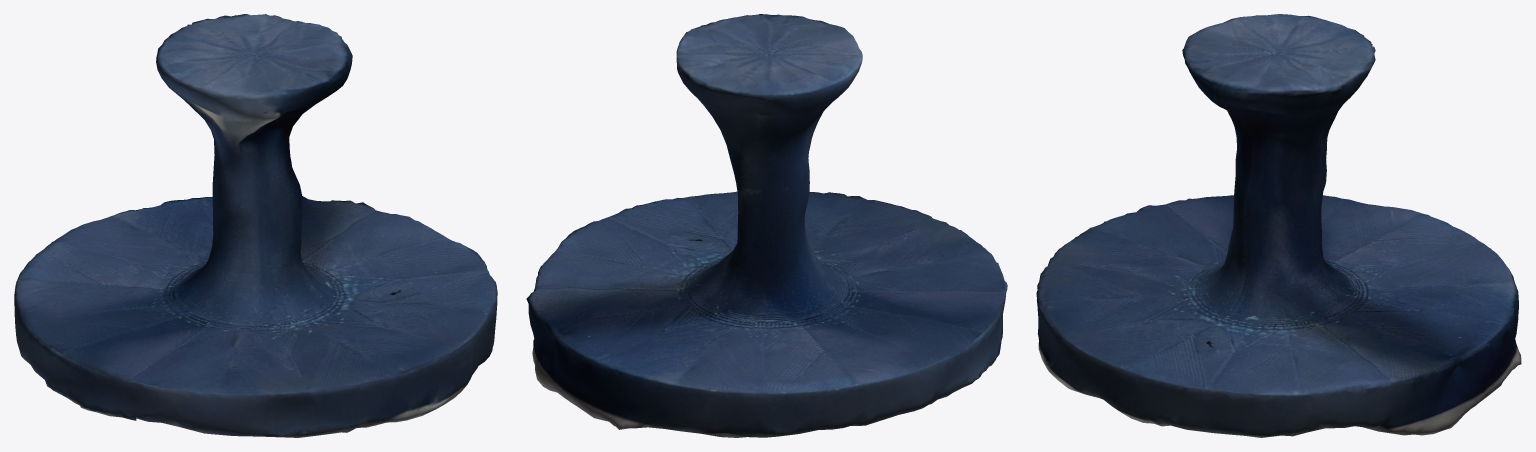
Rendered from stage.obj.
3 views of the same model, side by side, from view 1: azimuth 30°, elevation 25°; view 2: azimuth 150°, elevation 25°; view 3: azimuth 270°, elevation 25° (orthographic).
Parts seen in each view (by area): view 1: mesh_0; view 2: mesh_0; view 3: mesh_0.
Part boxes in pixels (x1=…): mesh_0: x1=14, y1=14, x2=497, y2=437; mesh_0: x1=526, y1=14, x2=1007, y2=437; mesh_0: x1=1036, y1=14, x2=1521, y2=437.
Size of the model in its own units: 0.0999 by 0.0709 by 0.1004.
Materials: 1 (1 with a texture image).
